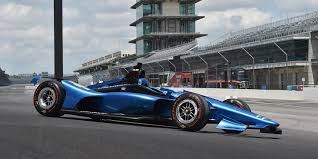f1_car: (26, 60, 291, 145)
